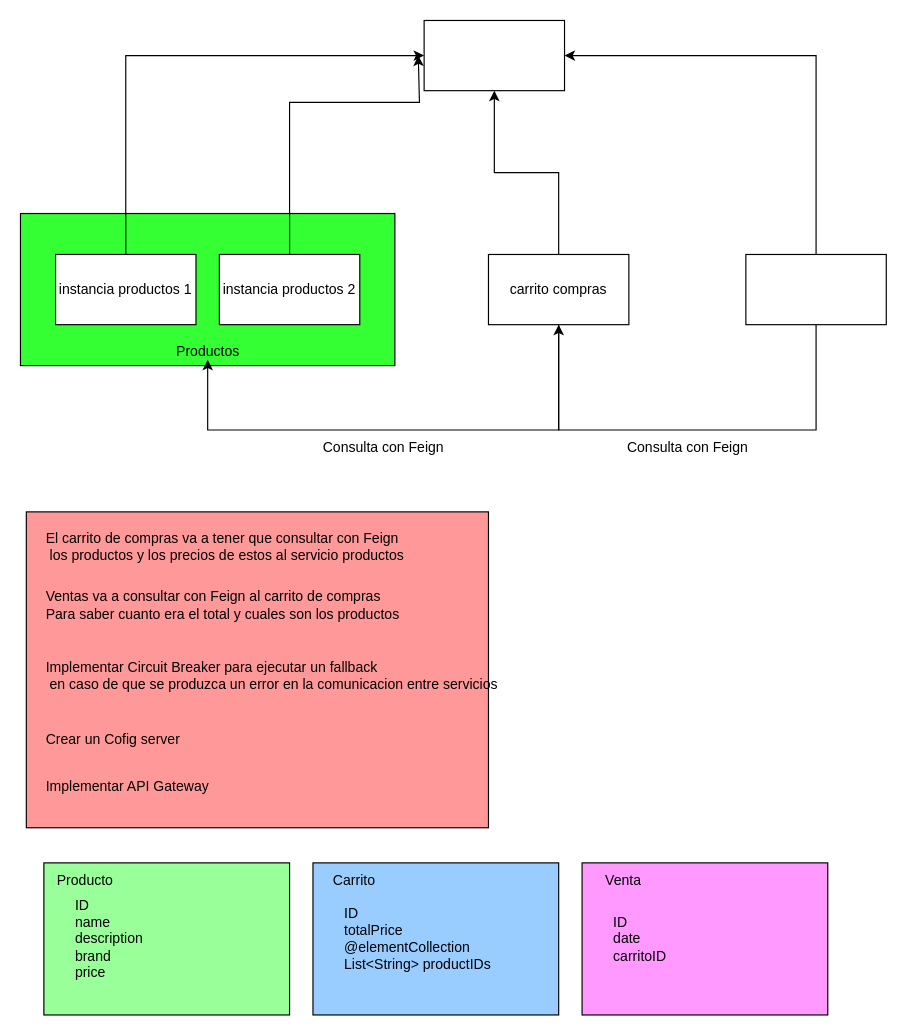
Image size: 907x1035. Some labels were removed from this diagram. The shapes that lost their labels are listed below. From the top down, each one's centre as x and y in pixels, then its label:
the point at 494,55: eureka server
the point at 815,289: ventas
